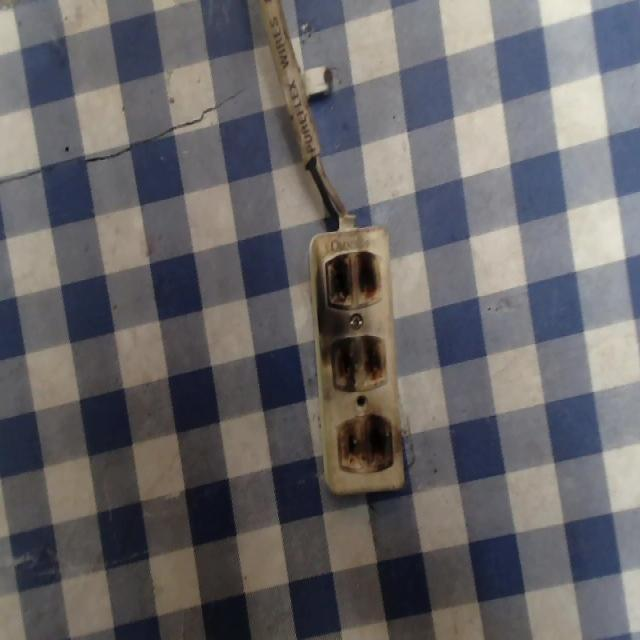-: (336, 410, 394, 474), (323, 247, 382, 309), (328, 333, 387, 392)
